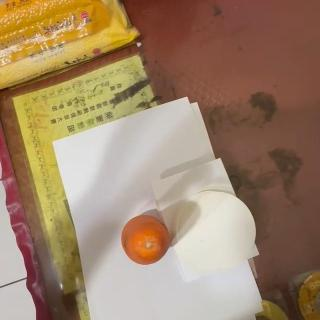carrot: (121, 215, 171, 265)
